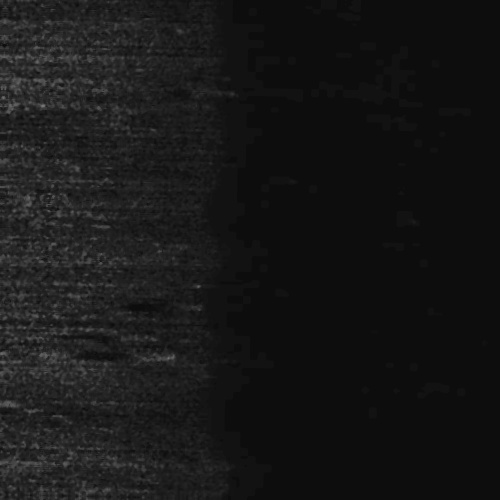object: (130, 352, 183, 359), (0, 401, 20, 408), (0, 410, 19, 417)
shadow: (42, 352, 156, 359)
